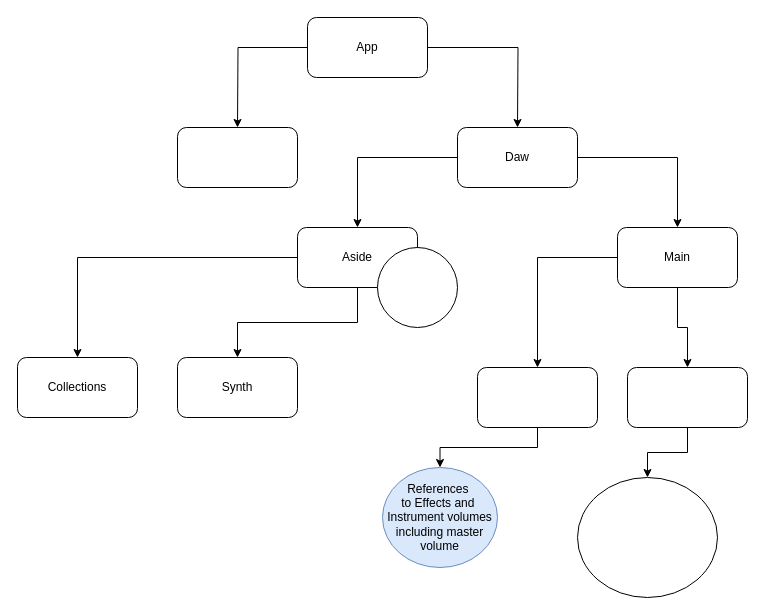
The diagram is 765 pixels wide and 615 high, and some of its shapes have lost their labels. Here are the shapes that lost their labels. From the top down, the centre of each, then its label:
At point (237, 157): "Login".
At point (537, 397): "Mix".
At point (687, 397): "Sequencer".
